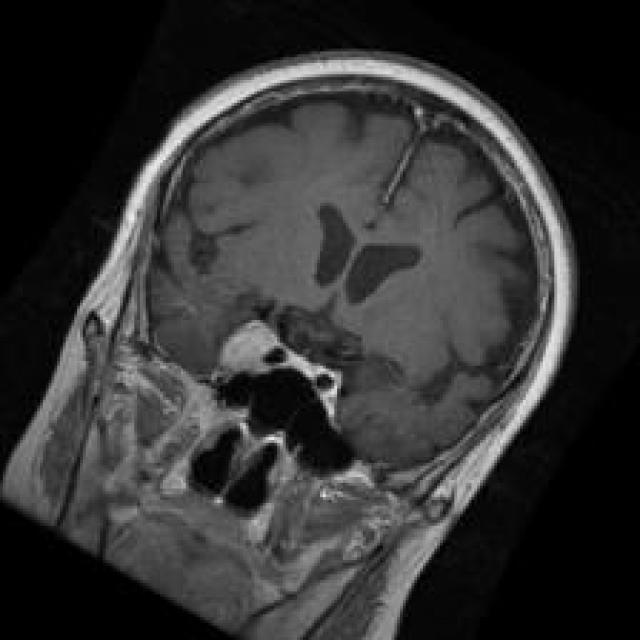meningioma_tumor: (200, 292, 320, 388)
